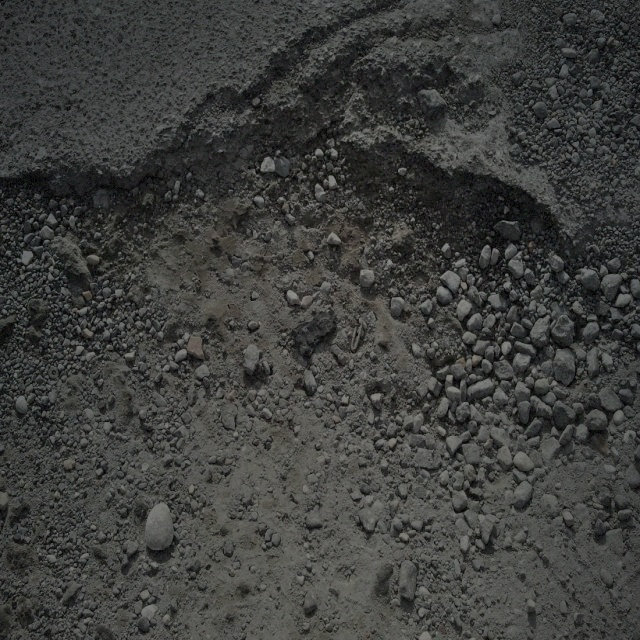pothole: (88, 84, 582, 390)
